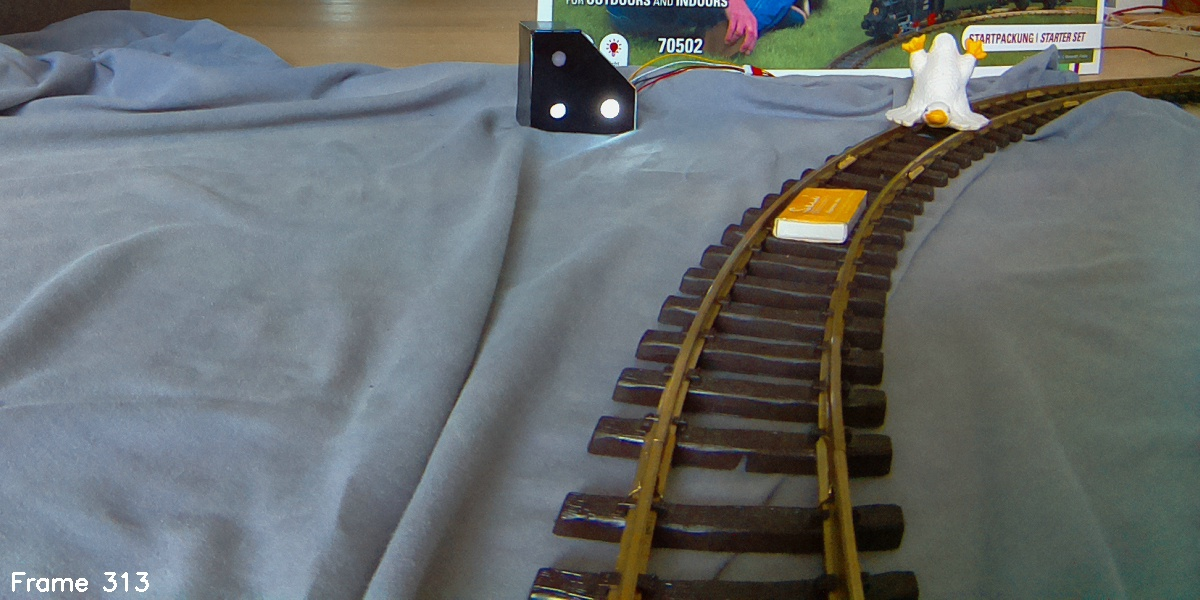Halt: (518, 22, 639, 136)
